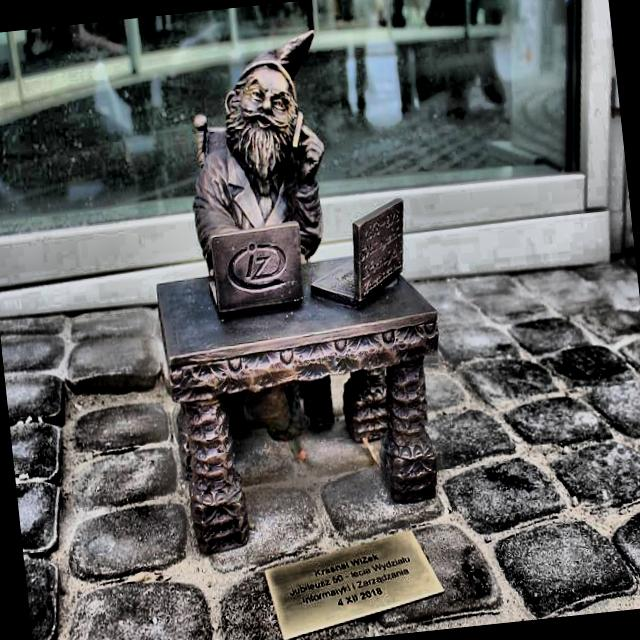WIZek: (157, 30, 436, 554)
